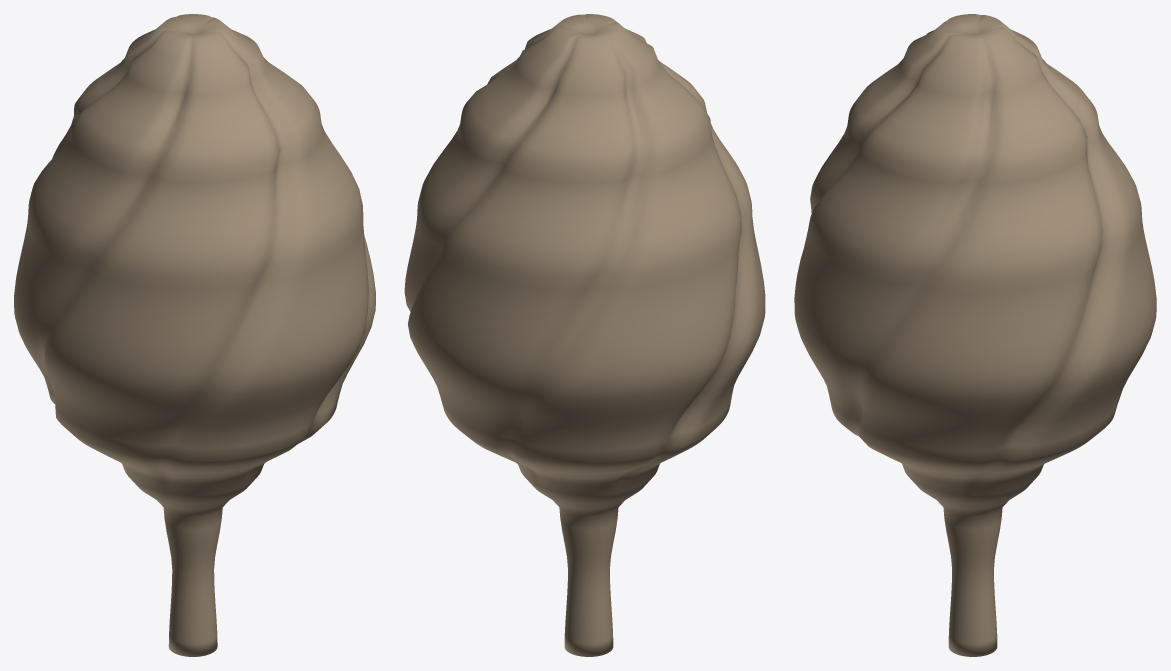
File: helicocystis.glb
3 renders of one model, left to right at view 1: azimuth 30°, elevation 25°; view 2: azimuth 150°, elevation 25°; view 3: azimuth 270°, elevation 25°, orthographic.
Parts seen in each view (by area): view 1: stalk-basal-cup-and-five-inset-spiral-ambulacra; view 2: stalk-basal-cup-and-five-inset-spiral-ambulacra; view 3: stalk-basal-cup-and-five-inset-spiral-ambulacra.
Part boxes in pixels (x1,y1,x2,y2): stalk-basal-cup-and-five-inset-spiral-ambulacra: (14, 14, 375, 656); stalk-basal-cup-and-five-inset-spiral-ambulacra: (404, 14, 765, 656); stalk-basal-cup-and-five-inset-spiral-ambulacra: (794, 14, 1156, 656).
Size of the model in its own units: 0.0517 by 0.098 by 0.0519.
